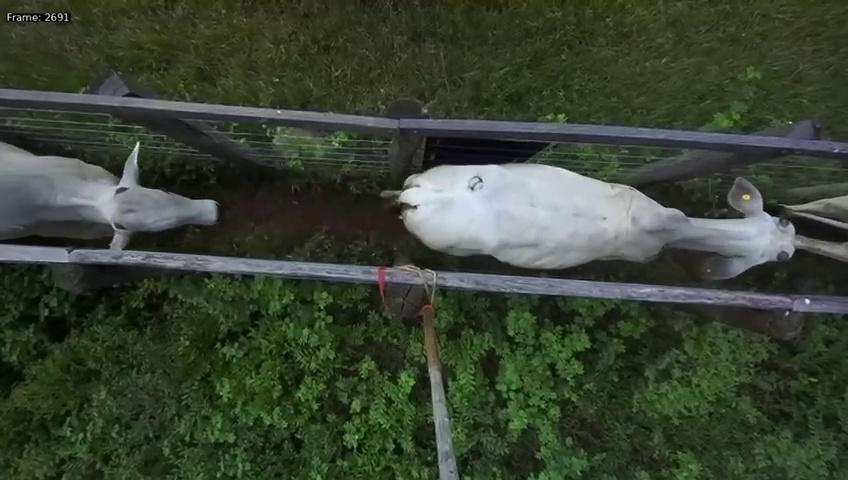cattle: (380, 166, 798, 283)
